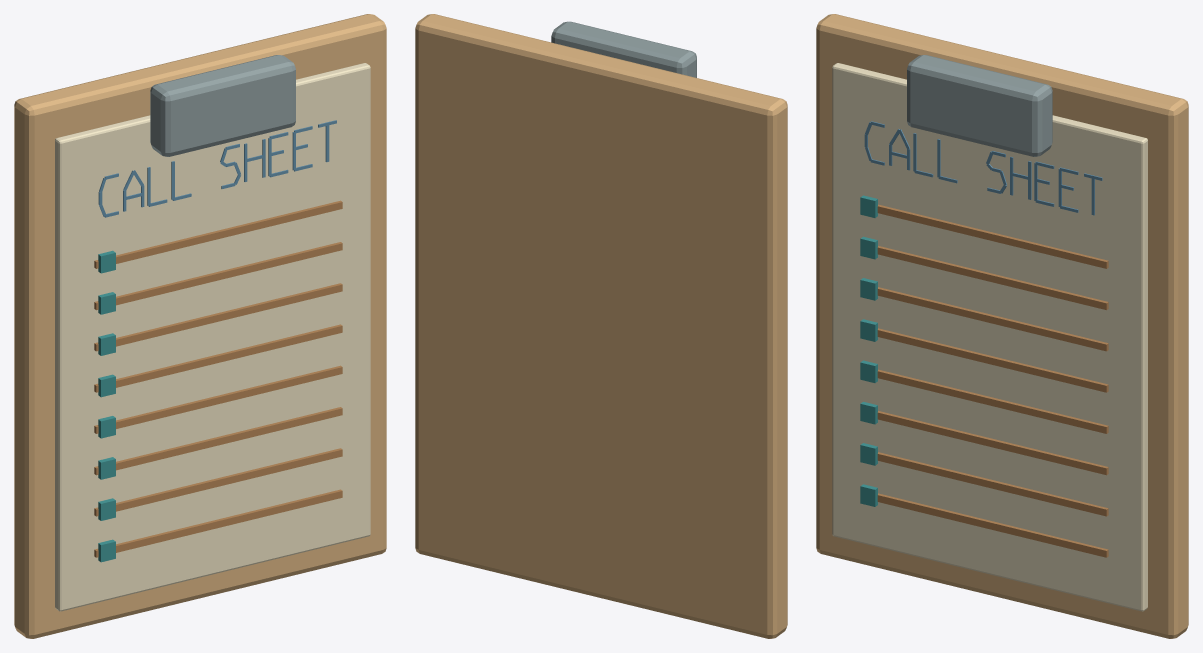
File: P072_clipboard.glb
The picture shows the model from 3 angles, left to right: view 1: azimuth 30°, elevation 25°; view 2: azimuth 150°, elevation 25°; view 3: azimuth 330°, elevation 25°; orthographic projection.
Parts seen in each view (by area): view 1: P072_paper_002, P072_board_001, P072_clip_003, P072_header_004, P072_line_017, P072_line_019, P072_line_009, P072_line_015, P072_line_011, P072_line_013, P072_line_007, P072_line_005; view 2: P072_board_001, P072_clip_003; view 3: P072_paper_002, P072_board_001, P072_clip_003, P072_header_004, P072_line_005, P072_line_009, P072_line_007, P072_line_011, P072_line_013, P072_line_019, P072_line_015, P072_line_017.
Boxes of the visible parts, <box> form: P072_paper_002: <box>55,63,370,611</box>; P072_board_001: <box>14,14,386,638</box>; P072_clip_003: <box>150,55,295,156</box>; P072_header_004: <box>98,120,336,217</box>; P072_line_017: <box>94,448,342,516</box>; P072_line_019: <box>94,489,342,557</box>; P072_line_009: <box>94,283,342,351</box>; P072_line_015: <box>94,407,342,475</box>; P072_line_011: <box>94,324,342,392</box>; P072_line_013: <box>94,365,342,433</box>; P072_line_007: <box>94,242,342,310</box>; P072_line_005: <box>94,200,342,268</box>; P072_board_001: <box>415,14,787,638</box>; P072_clip_003: <box>551,21,696,77</box>; P072_paper_002: <box>832,63,1147,611</box>; P072_board_001: <box>816,14,1188,638</box>; P072_clip_003: <box>907,55,1052,156</box>; P072_header_004: <box>864,121,1102,215</box>; P072_line_005: <box>877,204,1108,268</box>; P072_line_009: <box>877,287,1108,351</box>; P072_line_007: <box>877,246,1108,310</box>; P072_line_011: <box>877,328,1108,392</box>; P072_line_013: <box>877,369,1108,433</box>; P072_line_019: <box>877,493,1108,557</box>; P072_line_015: <box>877,411,1108,475</box>; P072_line_017: <box>877,452,1108,516</box>.
Size of the model in its own units: 0.22 by 0.312 by 0.042.
